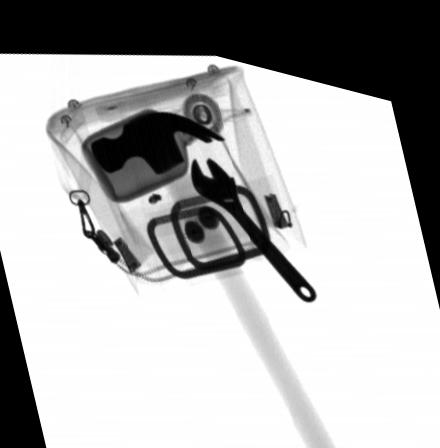Hammer: (90, 101, 345, 448)
Wrench: (190, 145, 317, 285)
